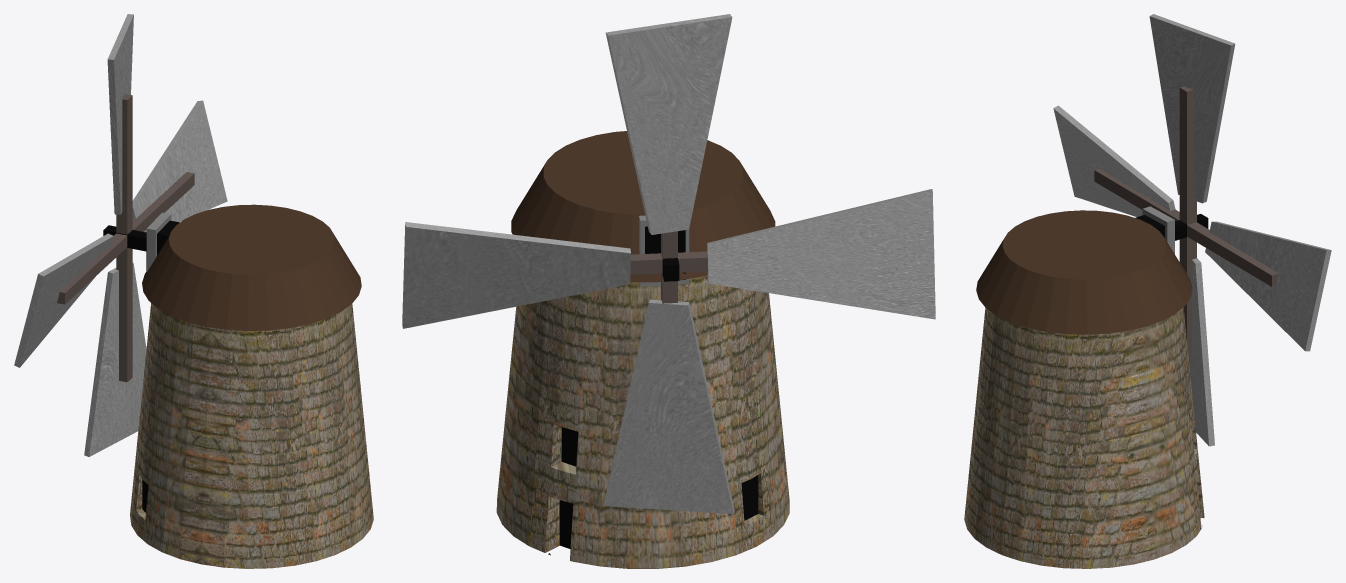
Rendered from WindMill.fbx.
3 views of the same model, side by side, from view 1: azimuth 30°, elevation 25°; view 2: azimuth 150°, elevation 25°; view 3: azimuth 270°, elevation 25° (orthographic). The views are drawn at different scales.
Visible parts, largest first — view 1: Cube.003, Cylinder.001, Turbine.003, TurbingWing, Cube.001, TurbineCore; view 2: Turbine.003, Cube.003, Cylinder.001, TurbingWing; view 3: Cube.003, Turbine.003, Cylinder.001, TurbingWing, Cube.001.
Part boxes in pixels (x1=…): Cube.003: x1=130, y1=303, x2=373, y2=568; Cylinder.001: x1=142, y1=204, x2=361, y2=330; Turbine.003: x1=14, y1=14, x2=227, y2=456; TurbingWing: x1=57, y1=94, x2=194, y2=382; Cube.001: x1=146, y1=212, x2=171, y2=271; TurbineCore: x1=103, y1=225, x2=146, y2=251; Turbine.003: x1=402, y1=14, x2=935, y2=514; Cube.003: x1=496, y1=275, x2=789, y2=568; Cylinder.001: x1=511, y1=131, x2=775, y2=282; TurbingWing: x1=630, y1=231, x2=707, y2=303; Cube.003: x1=964, y1=307, x2=1204, y2=568; Turbine.003: x1=1053, y1=14, x2=1331, y2=446; Cylinder.001: x1=976, y1=210, x2=1192, y2=334; TurbingWing: x1=1094, y1=86, x2=1278, y2=368; Cube.001: x1=1142, y1=206, x2=1174, y2=253.
Size of the model in its own units: 231 by 293 by 216.
